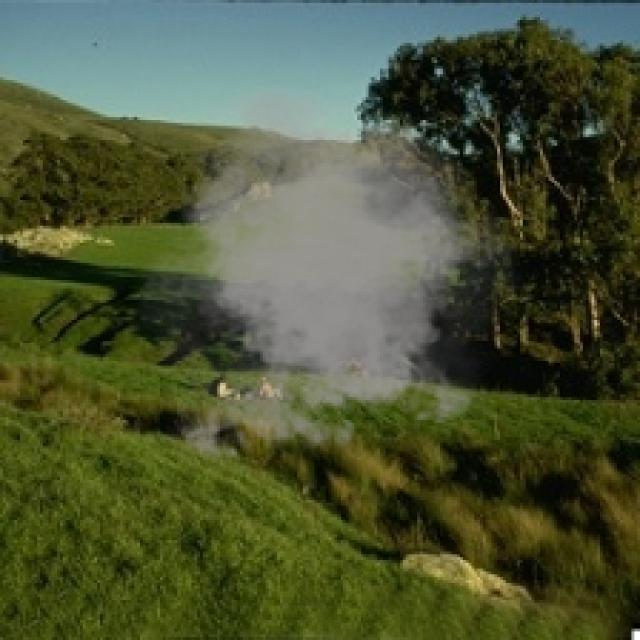Smoke: (120, 80, 534, 472)
